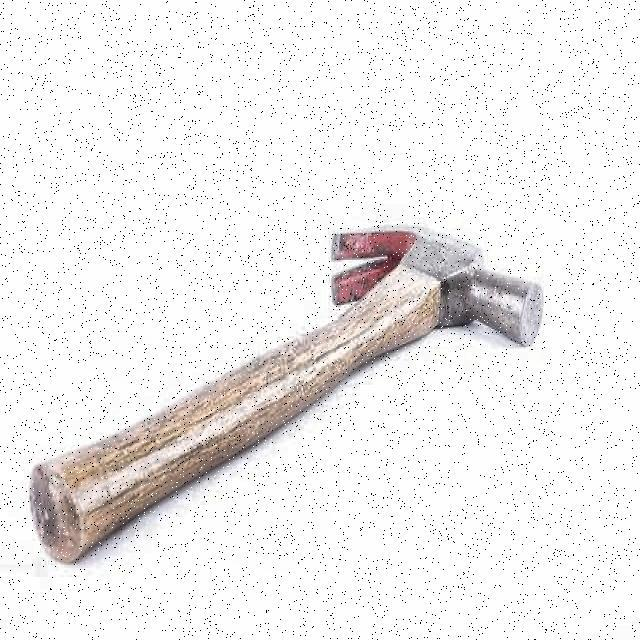hammer: (29, 225, 549, 567)
